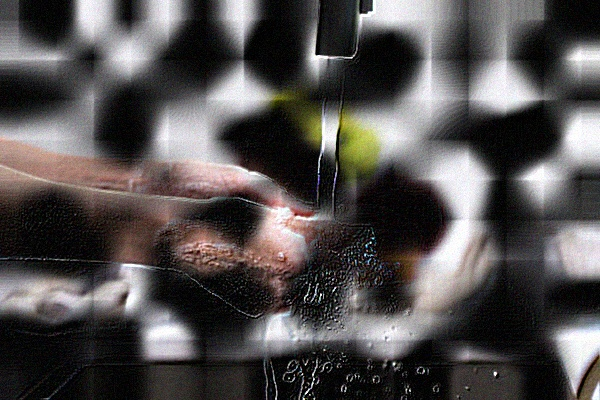washing hand: (79, 16, 489, 328)
